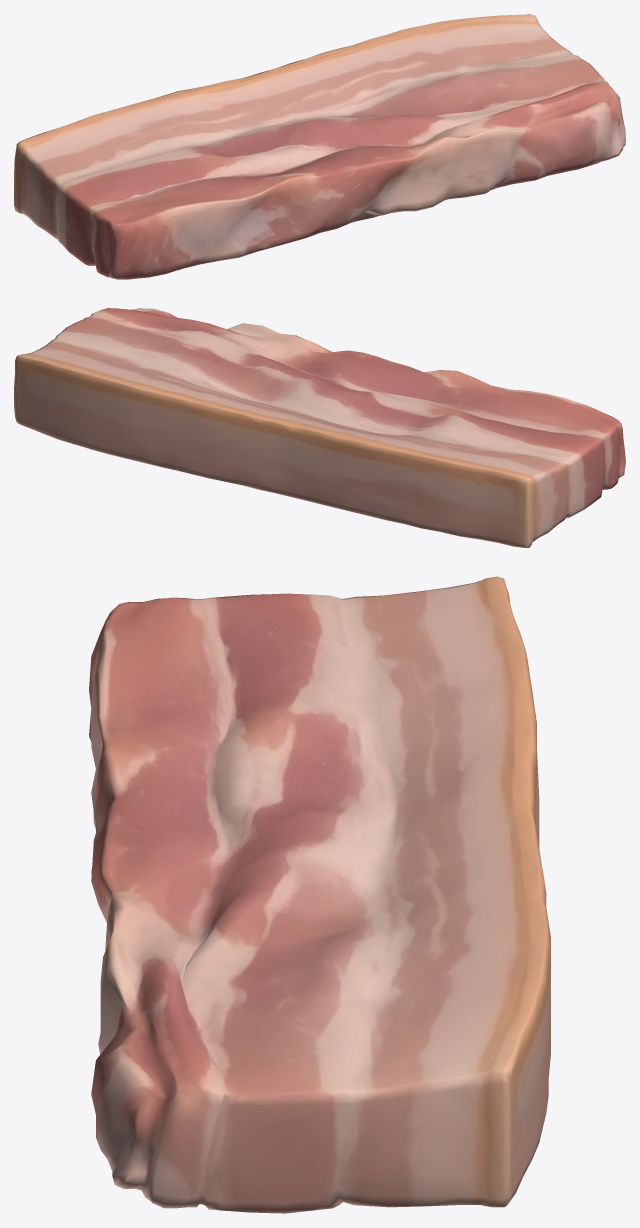
The picture shows the model from 3 angles, top to bottom: view 1: azimuth 30°, elevation 25°; view 2: azimuth 150°, elevation 25°; view 3: azimuth 270°, elevation 25°; orthographic projection. The views are drawn at different scales.
Visible parts, largest first — view 1: Pork Belly Slice; view 2: Pork Belly Slice; view 3: Pork Belly Slice.
Boxes of the visible parts, x1,y1,x2,y2 form: Pork Belly Slice: [14, 14, 625, 279]; Pork Belly Slice: [14, 308, 625, 547]; Pork Belly Slice: [89, 576, 550, 1213].
Size of the model in its own units: 0.998 by 0.1582 by 0.3848.
Materials: 1 (1 with a texture image).
